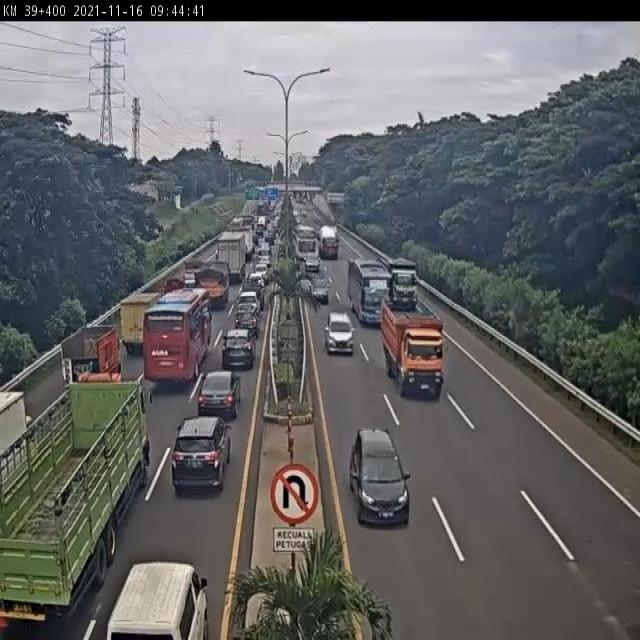Bus: (138, 288, 218, 384)
Car: (348, 428, 411, 526), (169, 413, 233, 492), (198, 369, 242, 419), (221, 329, 257, 372), (324, 310, 355, 355), (238, 289, 262, 319), (309, 272, 330, 305), (266, 208, 282, 242), (302, 252, 320, 273)
Truck: (0, 372, 151, 639), (104, 560, 209, 638), (380, 300, 444, 399), (348, 258, 390, 326), (119, 292, 162, 355), (215, 233, 248, 286), (387, 258, 418, 312), (318, 224, 339, 260), (181, 259, 205, 289), (236, 214, 256, 232), (257, 248, 272, 269), (296, 223, 312, 242), (296, 255, 308, 277), (256, 202, 270, 218), (256, 216, 267, 236), (282, 189, 295, 202), (252, 231, 260, 246), (314, 227, 322, 240)
